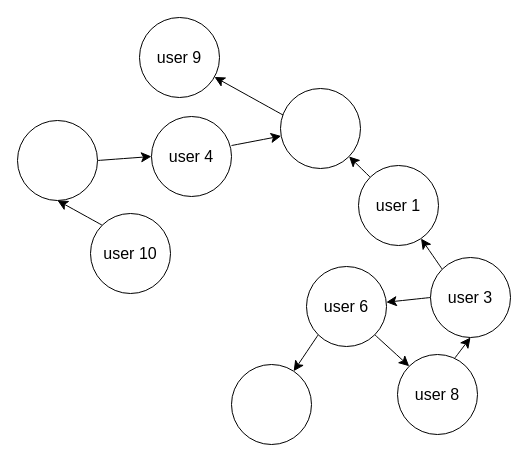
The diagram is 528 pixels wide and 462 high, and some of its shapes have lost their labels. Here are the shapes that lost their labels. From the top down, the centre of each, then its label:
At point (320, 128): "user 2".
At point (57, 160): "user 5".
At point (271, 404): "user 7".
